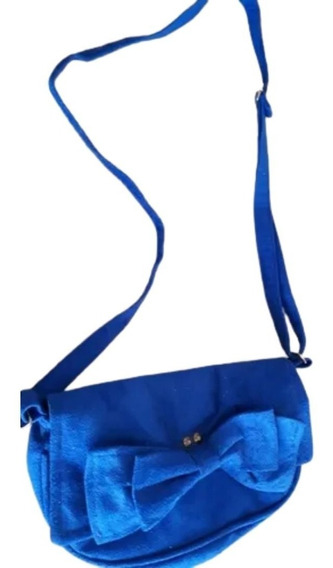cartera: (16, 349, 316, 567)
